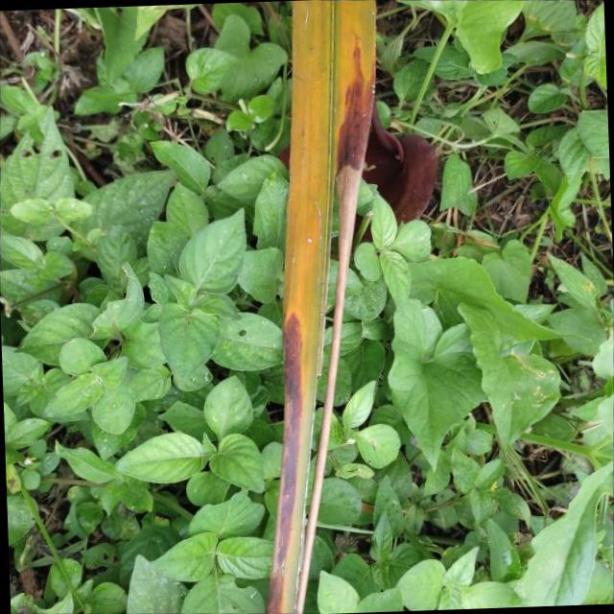Megnesium: (270, 0, 376, 614)
